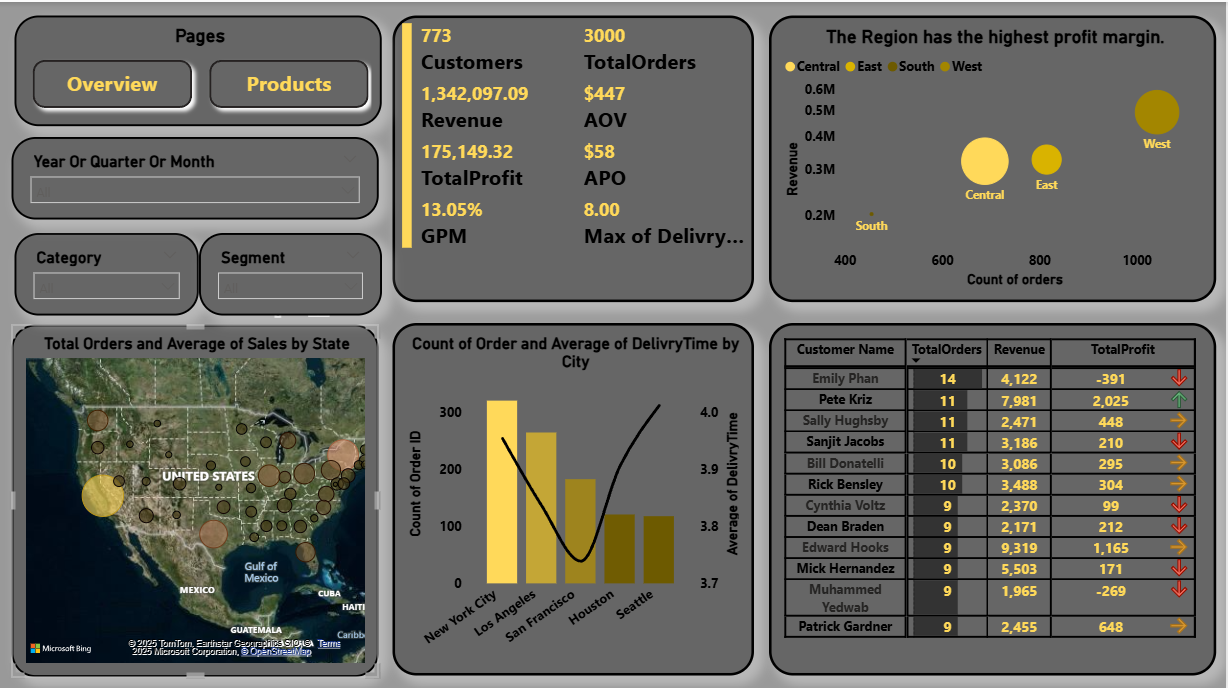

Layout of this report page (visuals, bound fields, positions):
{"tool":"powerbi","page":{"name":"Orders","canvas":[1280,720],"ordinal":2},"visuals":[{"type":"multiRowCard","fields":{"Values":["Orders.Customers","Orders.TotalOrders","Orders.Revenue","Orders.AOV","Orders.TotalProfit","Orders.APO","Orders.GPM","Orders.DelivryTime"]},"box":[411.1,14.1,376.7,298.5],"z":0},{"type":"map","title":"Total Orders and Average of Sales by State","fields":{"Category":["Customers.State"],"Size":["Orders.Order ID"]},"box":[14.1,335.5,382.9,367.3],"z":1000},{"type":"lineClusteredColumnComboChart","title":"Count of Order  and Average of DelivryTime by City","fields":{"Category":["Customers.City"],"Y":["Orders.Order ID"],"Y2":["Orders.DelivryTime"]},"box":[411.1,334.5,376.7,367.3],"z":2000},{"type":"scatterChart","title":"The Region has the highest profit margin.","fields":{"X":["Orders.Order ID"],"Series":["Customers.Region"],"Y":["Orders.Revenue"],"Size":["Orders.GPM"]},"box":[803.4,14.1,465.8,298.5],"z":3000},{"type":"slicer","fields":{"Values":["Products.Category"]},"box":[17.2,240.2,192.2,86],"z":4000},{"type":"pivotTable","fields":{"Rows":["Customers.Customer Name"],"Values":["Orders.TotalOrders","Orders.Revenue","Orders.TotalProfit"]},"box":[803.4,334.5,465.8,367.3],"z":5000},{"type":"pageNavigator","title":"Pages","box":[17.2,14.1,382.9,115.7],"z":6000},{"type":"slicer","fields":{"Values":["Date.Year Hierarchy.Year","Date.Year Hierarchy.Quarter","Date.Year Hierarchy.Month"]},"box":[14.1,140.7,382.9,86],"z":7000},{"type":"slicer","fields":{"Values":["Customers.Segment"]},"box":[209.4,240.2,190.7,86],"z":8000}]}

Visuals, with their boxes in screenshot pixels (x1, y1, x2, y2), scaled from the page's 1280x720 canvas onto the 1228x688 screenshot:
multiRowCard - Orders.Customers x Orders.TotalOrders: [394, 13, 756, 299]
"Total Orders and Average of Sales by State" map: [14, 321, 381, 672]
"Count of Order  and Average of DelivryTime by City" lineClusteredColumnComboChart: [394, 320, 756, 671]
"The Region has the highest profit margin." scatterChart: [771, 13, 1218, 299]
slicer - Products.Category: [17, 230, 201, 312]
pivotTable - Customers.Customer Name x Orders.TotalOrders: [771, 320, 1218, 671]
"Pages" pageNavigator: [17, 13, 384, 124]
slicer - Date.Year Hierarchy.Year x Date.Year Hierarchy.Quarter: [14, 134, 381, 217]
slicer - Customers.Segment: [201, 230, 384, 312]
